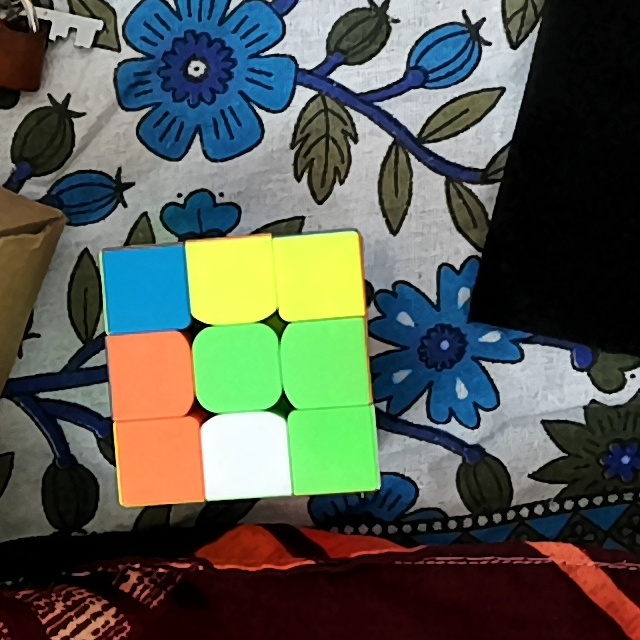tile: (108, 253, 181, 322), (296, 418, 369, 486), (122, 427, 195, 494), (292, 328, 360, 398), (283, 243, 355, 308), (202, 336, 272, 402), (196, 247, 266, 311), (212, 428, 282, 492), (119, 341, 185, 408)
